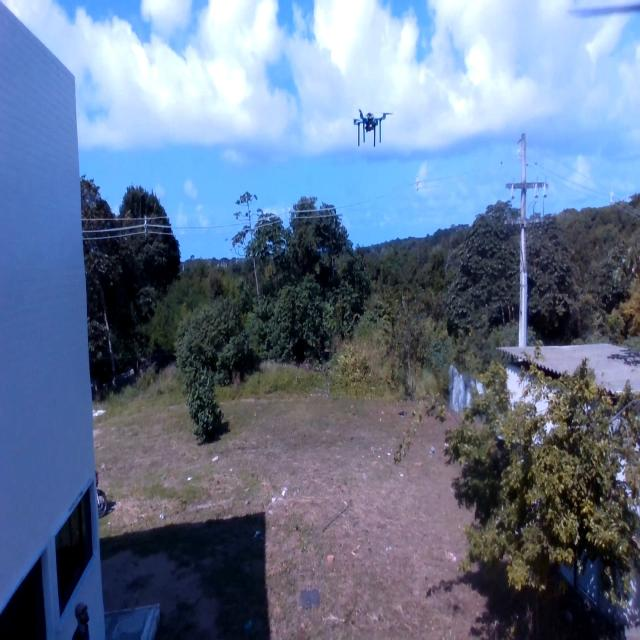-uav-: (348, 98, 395, 156)
